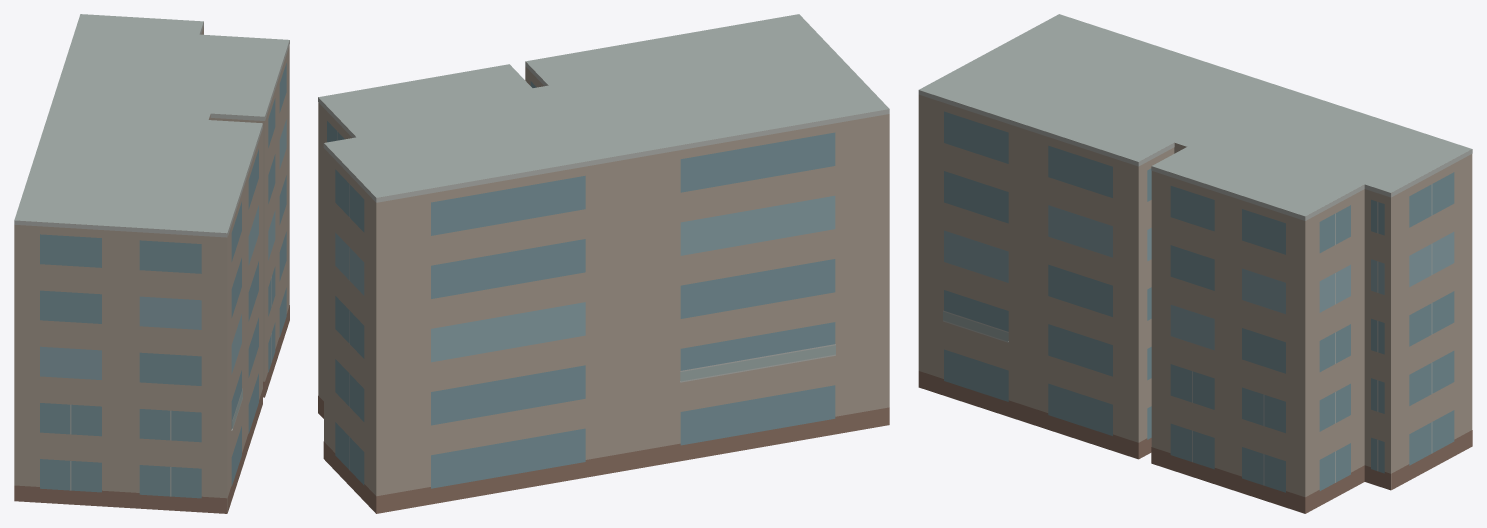
File: survey-upis-32657213.glb
The picture shows the model from 3 angles, left to right: view 1: azimuth 30°, elevation 25°; view 2: azimuth 150°, elevation 25°; view 3: azimuth 270°, elevation 25°; orthographic projection. The views are drawn at different scales.
Visible parts, largest first — view 1: survey-upis-32657213.tmp; view 2: survey-upis-32657213.tmp; view 3: survey-upis-32657213.tmp.
Boxes of the visible parts, x1,y1,x2,y2 form: survey-upis-32657213.tmp: (14,14,289,513); survey-upis-32657213.tmp: (318,14,889,513); survey-upis-32657213.tmp: (918,14,1472,513).
Size of the model in its own units: 23.08 by 15.8 by 26.67.
